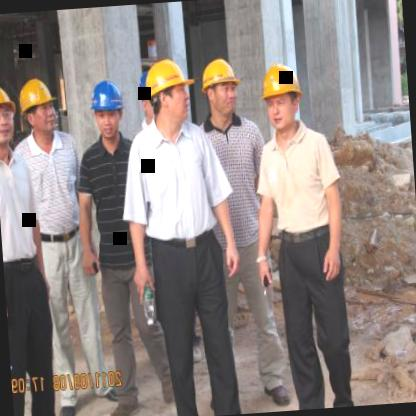helmet: (142, 57, 197, 136), (258, 58, 308, 140), (198, 53, 242, 124), (14, 76, 58, 143), (89, 74, 127, 148), (0, 73, 20, 153)
